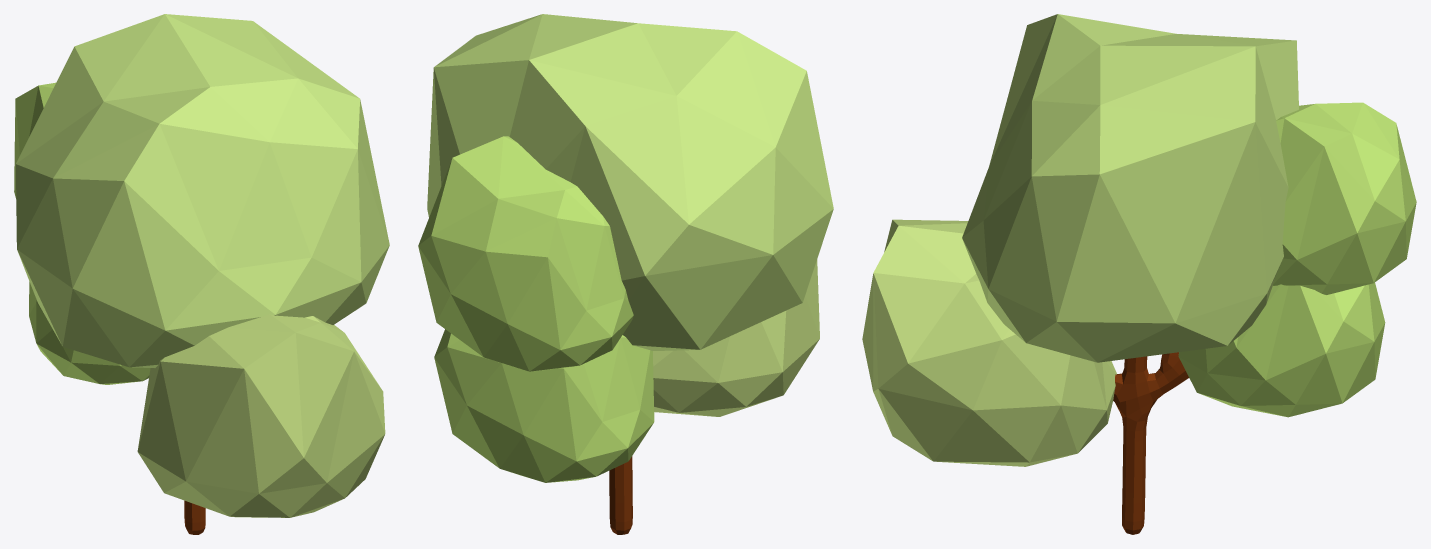
Rendered from Arbol 3.fbx.
The picture shows the model from 3 angles, left to right: view 1: azimuth 30°, elevation 25°; view 2: azimuth 150°, elevation 25°; view 3: azimuth 270°, elevation 25°; orthographic projection. The views are drawn at different scales.
Visible parts, largest first — view 1: Icosphere, Icosphere.001, Icosphere.002, Icosphere.003, Plane; view 2: Icosphere, Icosphere.003, Icosphere.002, Icosphere.001, Plane; view 3: Icosphere, Icosphere.001, Icosphere.003, Icosphere.002, Plane.
Part boxes in pixels (x1,y1,x2,y2): Icosphere: [16, 14, 389, 367]; Icosphere.001: [137, 314, 385, 517]; Icosphere.002: [29, 281, 150, 384]; Icosphere.003: [14, 82, 55, 198]; Plane: [184, 500, 205, 534]; Icosphere: [427, 14, 833, 350]; Icosphere.003: [418, 136, 633, 371]; Icosphere.002: [434, 329, 654, 482]; Icosphere.001: [653, 259, 819, 416]; Plane: [609, 456, 632, 534]; Icosphere: [962, 14, 1298, 362]; Icosphere.001: [862, 219, 1116, 466]; Icosphere.003: [1272, 102, 1416, 294]; Icosphere.002: [1178, 282, 1385, 417]; Plane: [1113, 352, 1188, 534].
Bounding box in the file's own units: 783 × 1111 × 1112.
